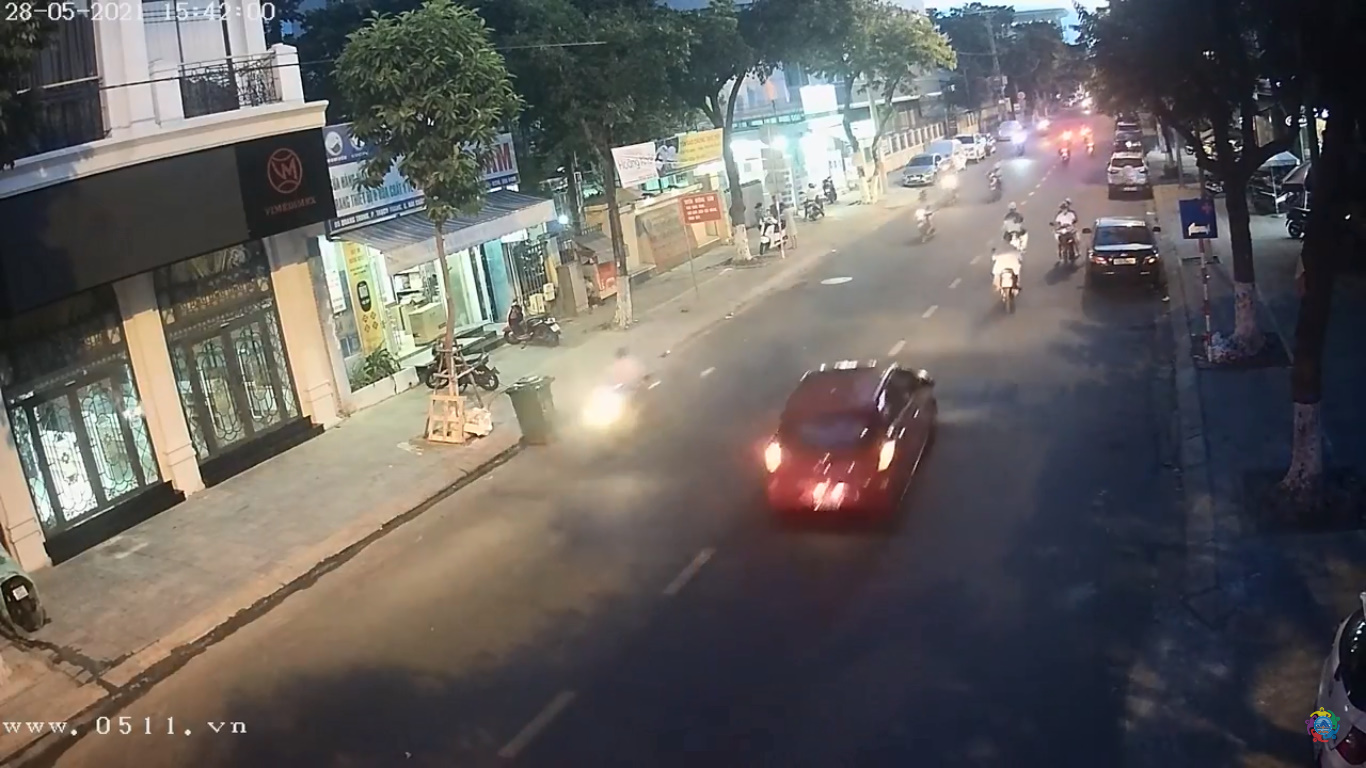car: (760, 354, 940, 527)
